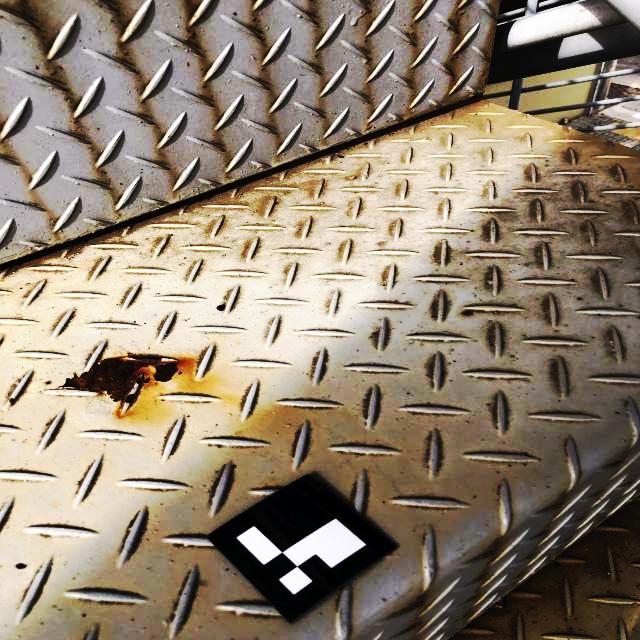Corrosion: (59, 354, 179, 404)
